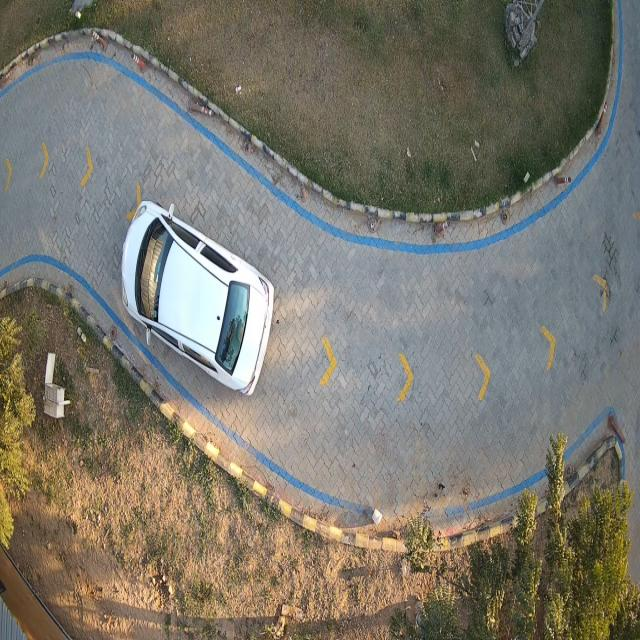car: (121, 200, 274, 396)
